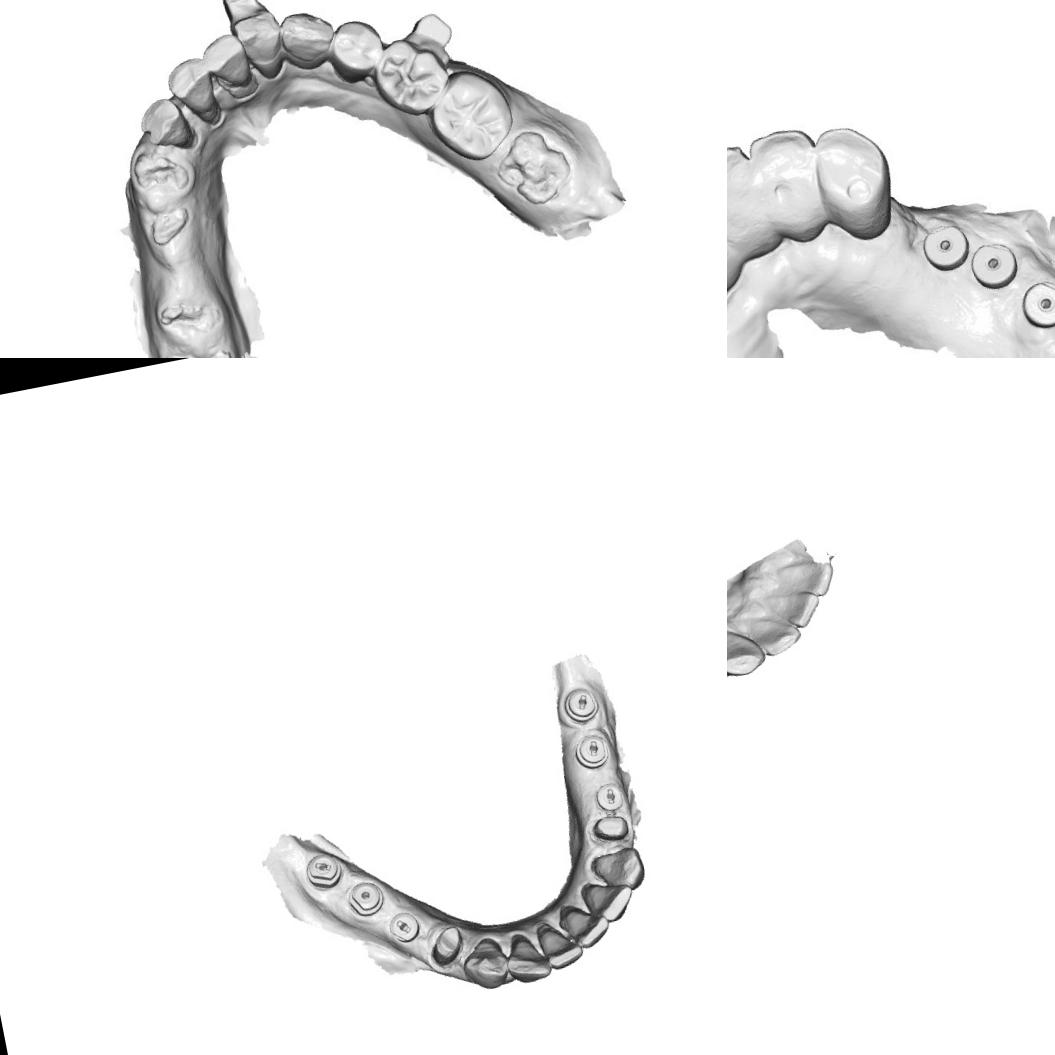canine: (806, 116, 898, 250), (278, 4, 335, 64), (586, 844, 649, 898), (458, 932, 512, 994), (727, 618, 768, 681)
crown: (424, 921, 467, 968), (586, 809, 632, 846)
implant: (912, 214, 980, 278), (969, 238, 1021, 288), (1015, 273, 1055, 335), (344, 876, 386, 920)
implant_minus: (558, 682, 602, 727), (301, 847, 345, 892), (570, 729, 614, 772), (383, 906, 424, 946), (591, 778, 629, 815)
incisor: (751, 124, 830, 242), (727, 144, 780, 271), (227, 0, 290, 78), (167, 55, 226, 130), (758, 583, 824, 635), (140, 93, 194, 155), (742, 608, 805, 661), (499, 926, 553, 986), (204, 30, 252, 94), (780, 555, 838, 603), (560, 900, 613, 952), (582, 876, 637, 926), (535, 921, 586, 974)
molar: (425, 66, 519, 162), (495, 122, 572, 205)
premolar: (374, 34, 456, 114), (328, 19, 381, 76)
